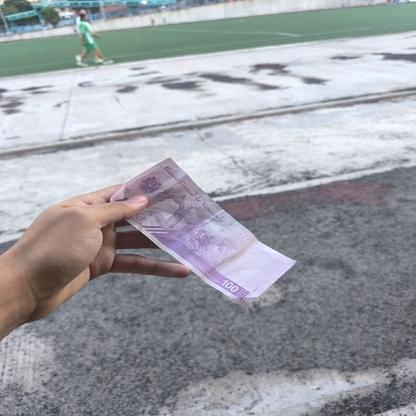one_hundred-back-vef: (109, 155, 297, 309)
